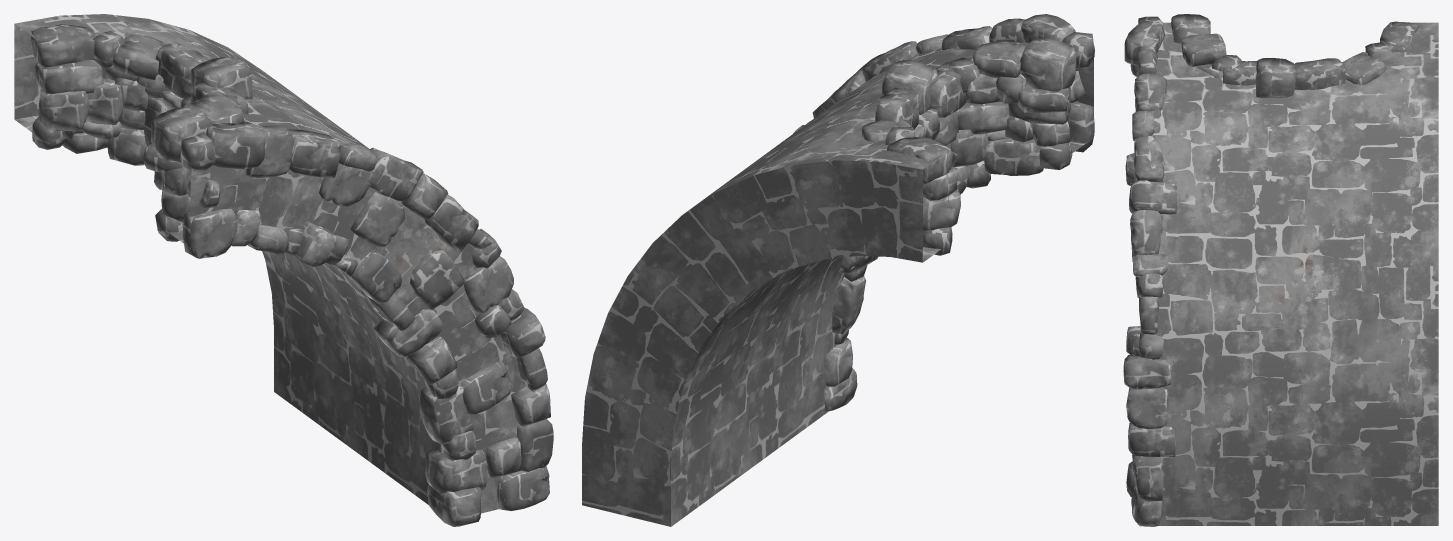
File: Half_Roof_Hole_SidePiece_Right.fbx
3 views of the same model, side by side, from view 1: azimuth 30°, elevation 25°; view 2: azimuth 150°, elevation 25°; view 3: azimuth 270°, elevation 25° (orthographic). The views are drawn at different scales.
Visible parts, largest first — view 1: Rocks.002, Half_Roof_Hole_02.001; view 2: Half_Roof_Hole_02.001, Rocks.002; view 3: Half_Roof_Hole_02.001, Rocks.002.
Part boxes in pixels (<box>): Rocks.002: <box>30,24,553,526</box>; Half_Roof_Hole_02.001: <box>14,14,526,513</box>; Half_Roof_Hole_02.001: <box>582,41,1093,526</box>; Rocks.002: <box>793,14,1094,411</box>; Half_Roof_Hole_02.001: <box>1144,22,1438,525</box>; Rocks.002: <box>1123,14,1419,526</box>.
Bounding box in the file's own units: 6.06 × 6.99 × 5.35.
